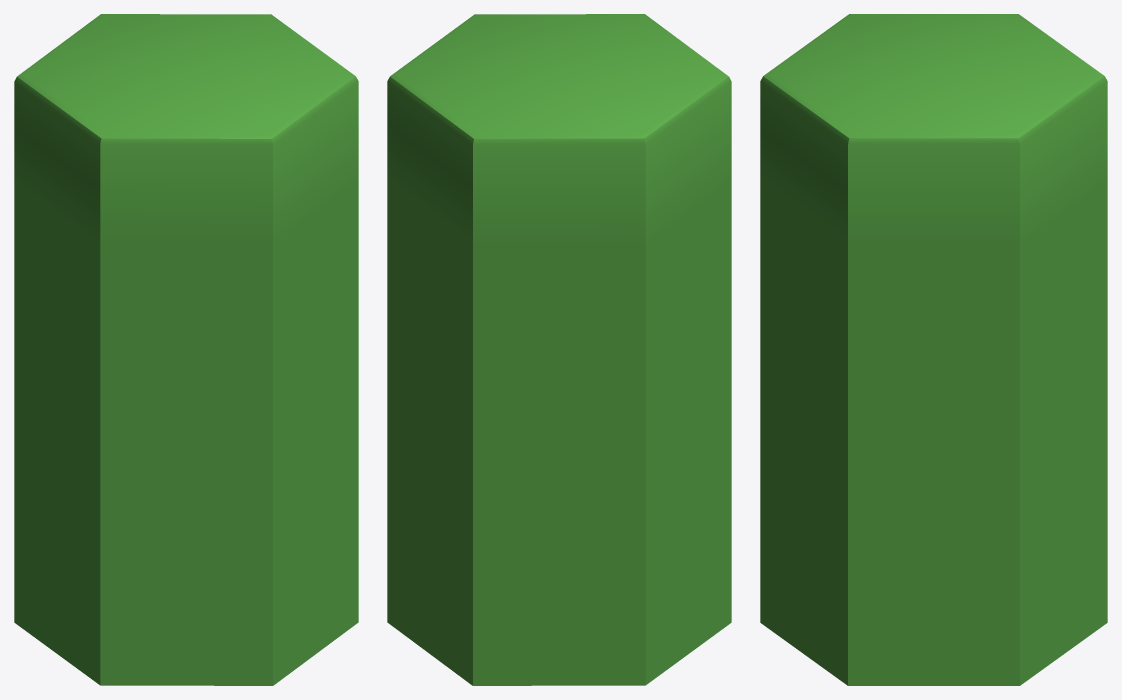
File: Hexagon 1.fbx
3 views of the same model, side by side, from view 1: azimuth 30°, elevation 25°; view 2: azimuth 150°, elevation 25°; view 3: azimuth 270°, elevation 25° (orthographic).
Parts seen in each view (by area): view 1: Cube.002; view 2: Cube.002; view 3: Cube.002.
Part boxes in pixels (x1=…): Cube.002: x1=14, y1=14, x2=358, y2=685; Cube.002: x1=387, y1=14, x2=731, y2=685; Cube.002: x1=760, y1=14, x2=1107, y2=685.
Bounding box in the file's own units: 245 × 497 × 285.
